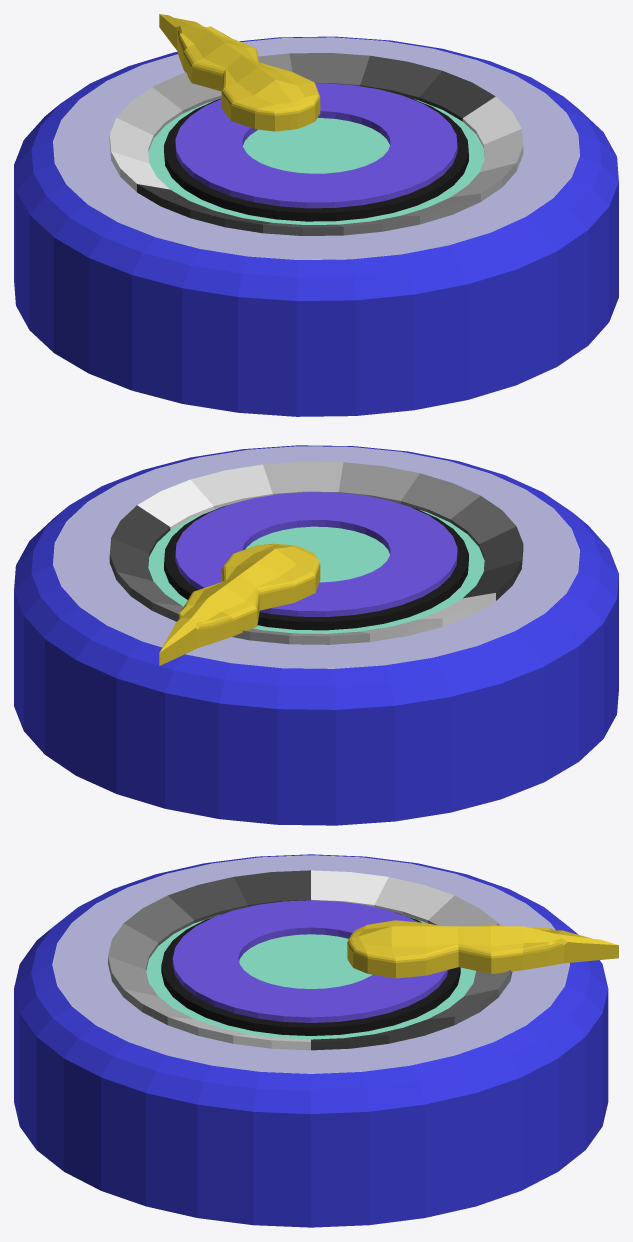
The model's file is RotaterMain11.fbx.
3 views of the same model, one above another, from view 1: azimuth 30°, elevation 25°; view 2: azimuth 150°, elevation 25°; view 3: azimuth 270°, elevation 25° (orthographic). The views are drawn at different scales.
Visible parts, largest first — view 1: Rotater; view 2: Rotater; view 3: Rotater.
Part boxes in pixels (<box>): Rotater: <box>14,14,618,416</box>; Rotater: <box>14,445,618,825</box>; Rotater: <box>14,854,618,1227</box>.
Size of the model in its own units: 2 by 0.652 by 2.04.
